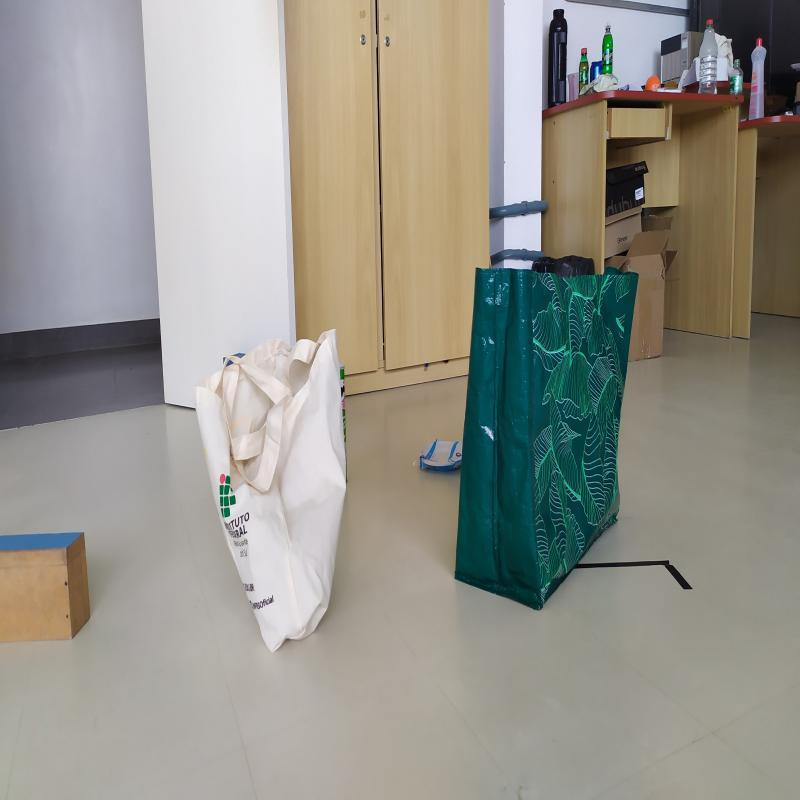Bag: (454, 269, 640, 612), (195, 325, 347, 654)
Cleaner: (602, 24, 614, 80)
Guarana: (580, 47, 590, 94)
Orange: (645, 75, 660, 90)
Plate: (418, 437, 464, 474)
Pringles: (341, 365, 349, 465)
Tonic: (591, 61, 601, 86)
